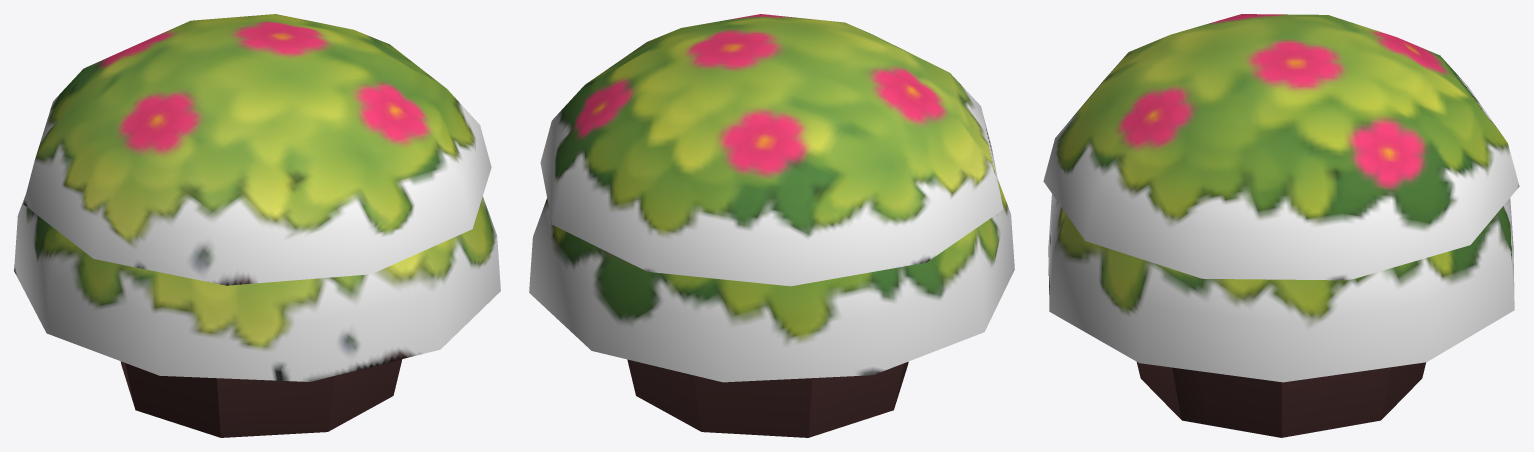
File: Flower plant.fbx
3 renders of one model, left to right at view 1: azimuth 30°, elevation 25°; view 2: azimuth 150°, elevation 25°; view 3: azimuth 270°, elevation 25°, orthographic.
Visible parts, largest first — view 1: Flower_plant; view 2: Flower_plant; view 3: Flower_plant.
Part boxes in pixels (bbox=[...]): Flower_plant: bbox=[14, 14, 500, 437]; Flower_plant: bbox=[529, 14, 1014, 437]; Flower_plant: bbox=[1043, 14, 1519, 437].
Bounding box in the file's own units: 116 × 87.83 × 113.
Materials: 1 (1 with a texture image).
